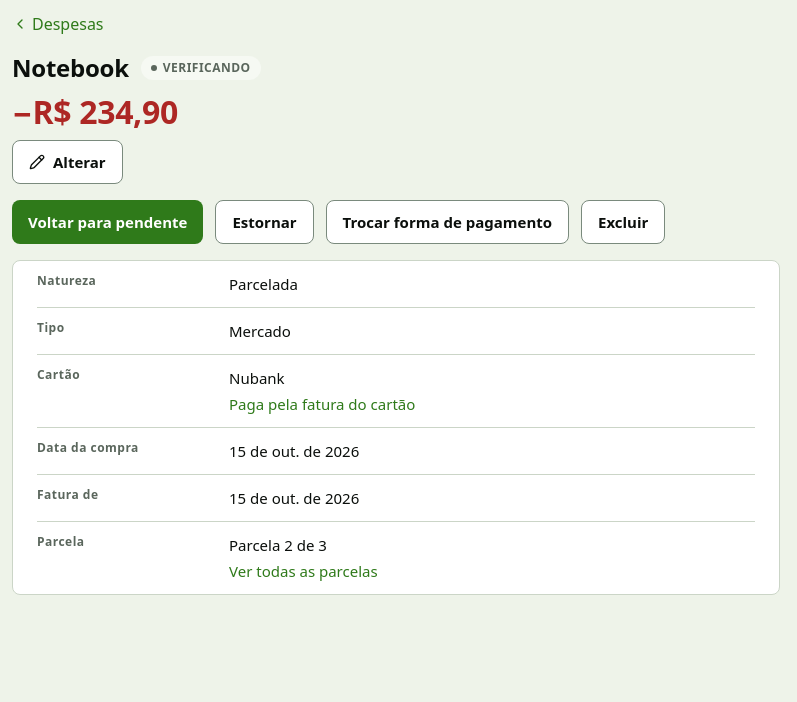
ExpenseDetailPage actions (spec 0012) › shows a direct transition error with the link to the card
Click the button "Voltar para pendente": click(108, 222) [12,200,203,244]
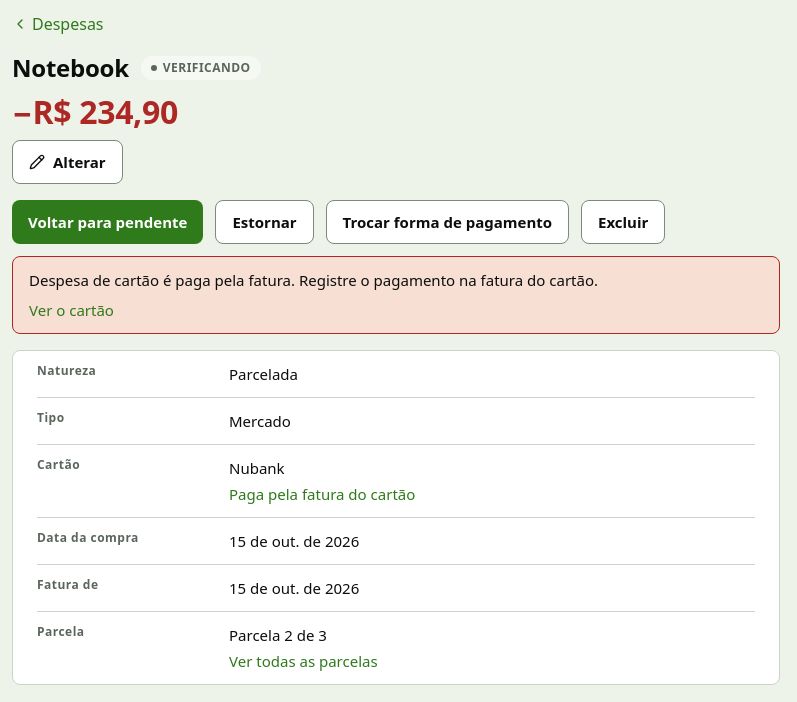
Check: the message shows "Despesa de cartão é paga pela fatura.", box [29,270,598,290]
